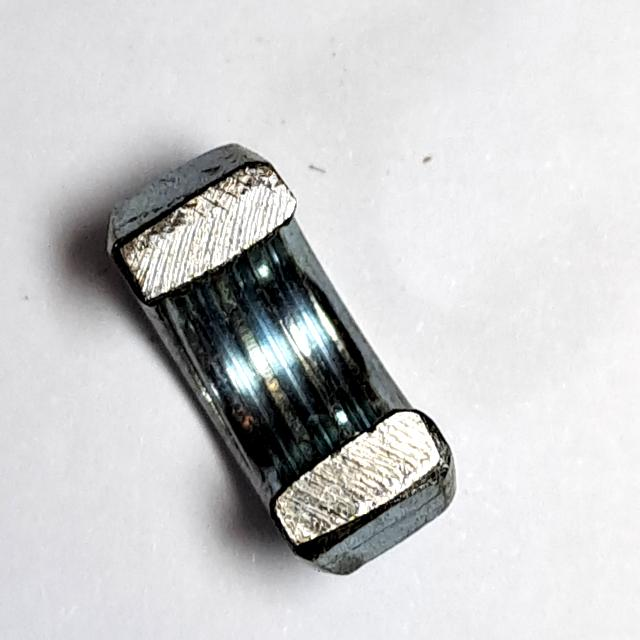Side-Fracture: (89, 136, 471, 592)
